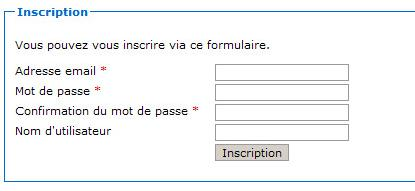button: (214, 143, 290, 162)
field: (213, 63, 350, 82), (214, 103, 350, 122), (214, 123, 350, 142), (214, 83, 349, 102)
radio_with_label: (14, 101, 351, 123), (13, 61, 352, 82), (14, 122, 352, 143), (14, 82, 350, 103)
